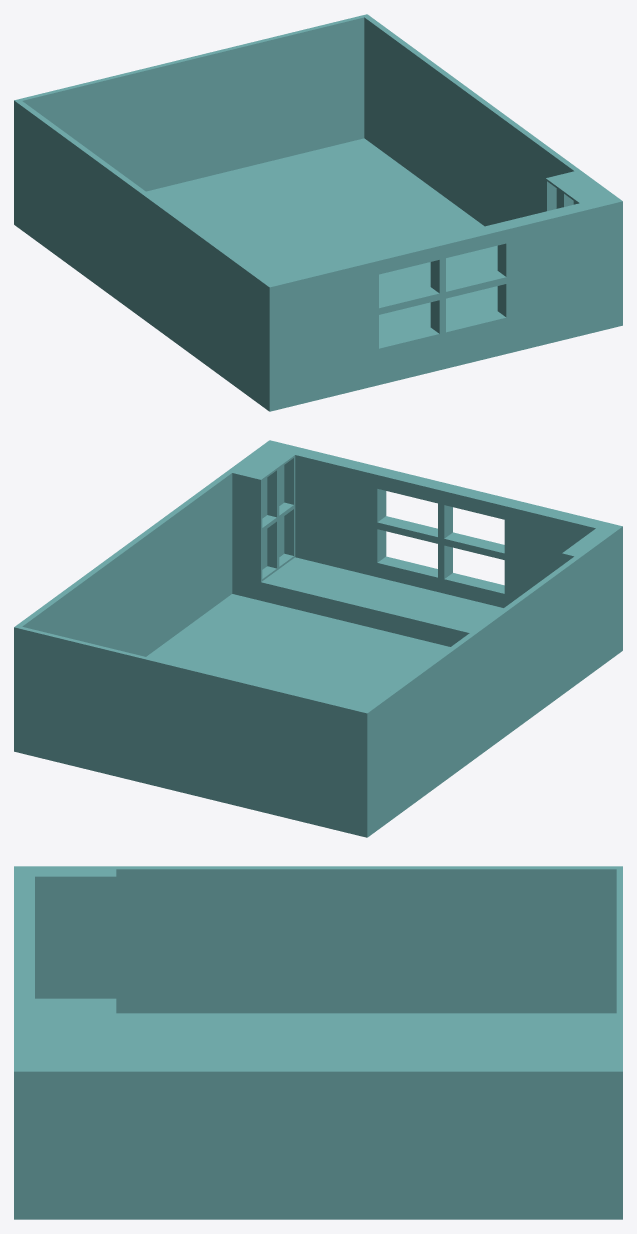
Rendered from room.dae.
3 renders of one model, top to bottom at view 1: azimuth 30°, elevation 25°; view 2: azimuth 150°, elevation 25°; view 3: azimuth 270°, elevation 25°, orthographic. The views are drawn at different scales.
Parts seen in each view (by area): view 1: windowRoom; view 2: windowRoom; view 3: windowRoom.
Part boxes in pixels (x1=…): windowRoom: x1=14, y1=14, x2=622, y2=411; windowRoom: x1=14, y1=440, x2=622, y2=837; windowRoom: x1=14, y1=866, x2=622, y2=1219.
Bounding box in the file's own units: 3.25 × 4.08 × 1.09.
